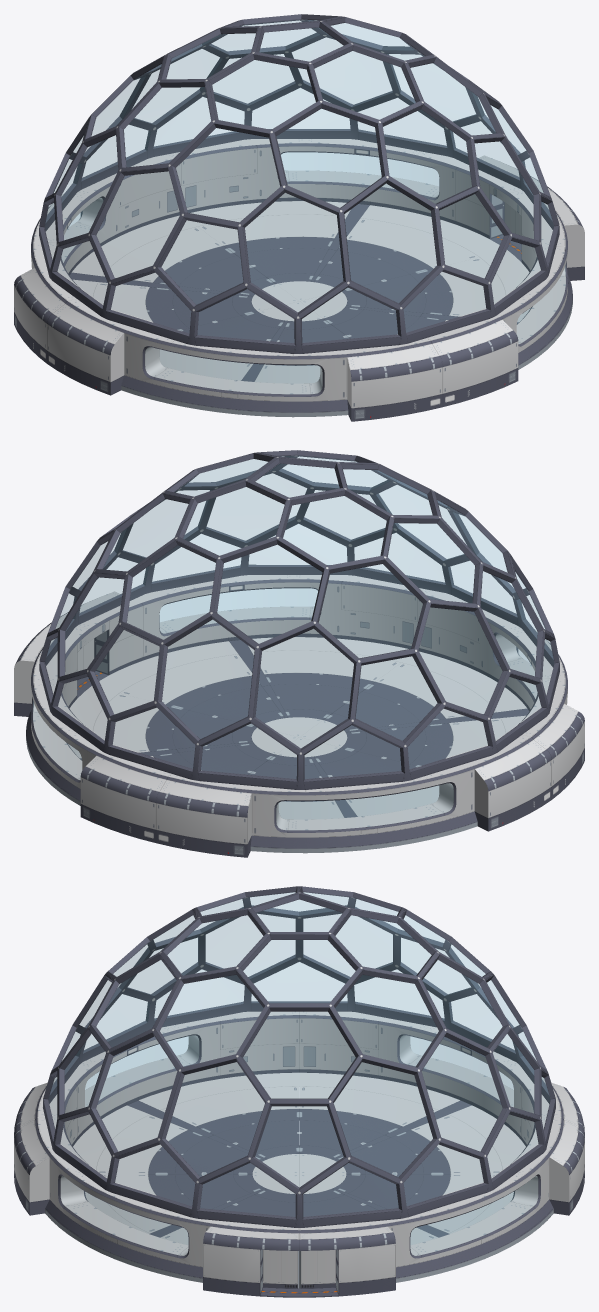
File: Biodome_01.FBX
3 views of the same model, one above another, from view 1: azimuth 30°, elevation 25°; view 2: azimuth 150°, elevation 25°; view 3: azimuth 270°, elevation 25° (orthographic).
Parts seen in each view (by area): view 1: Biodome_01; view 2: Biodome_01; view 3: Biodome_01, Door_A, Door_B.
Part boxes in pixels (x1,y1,x2,y2): Biodome_01: [14, 14, 584, 421]; Biodome_01: [14, 450, 584, 857]; Biodome_01: [14, 886, 584, 1297]; Door_A: [263, 1250, 299, 1288]; Door_B: [299, 1250, 335, 1288].
Bounding box in the file's own units: 29.66 × 14.66 × 29.16.
